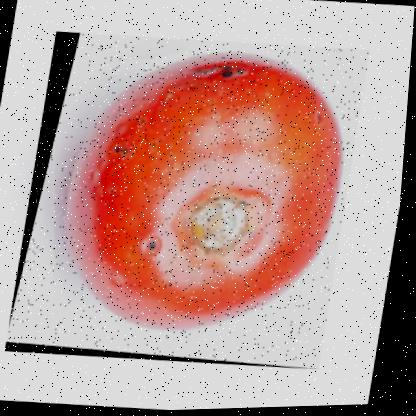tomato_rotten: (7, 23, 373, 378)
